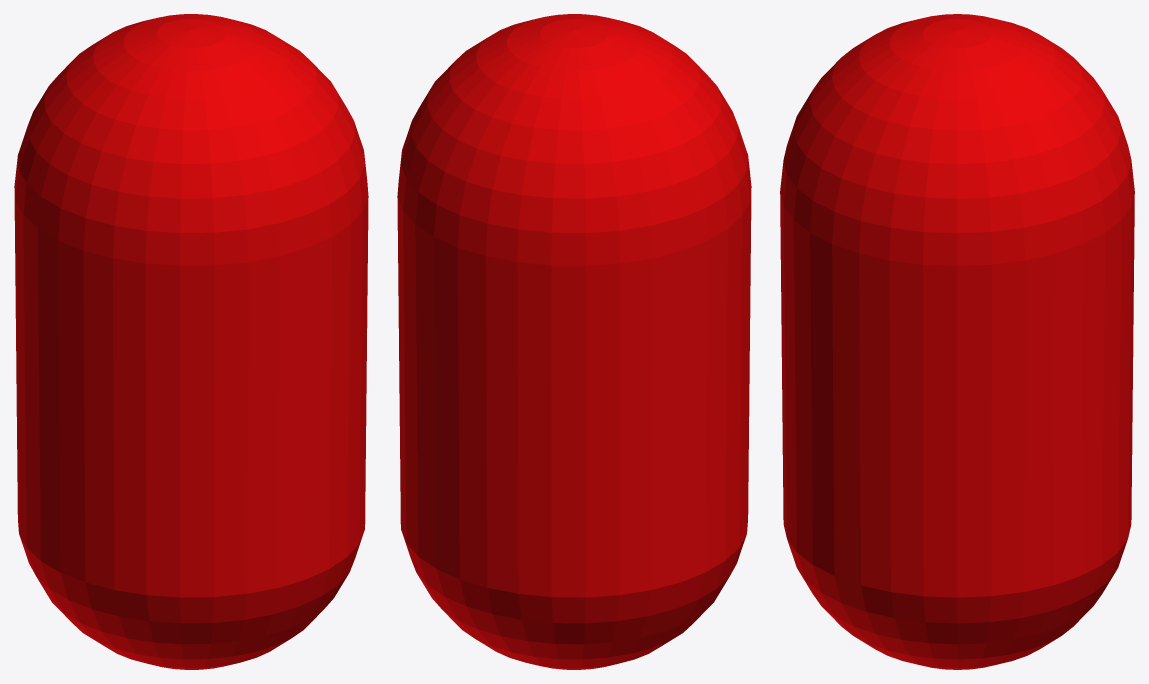
The model's file is Creep0.fbx.
The picture shows the model from 3 angles, left to right: view 1: azimuth 30°, elevation 25°; view 2: azimuth 150°, elevation 25°; view 3: azimuth 270°, elevation 25°; orthographic projection.
Parts seen in each view (by area): view 1: Sphere; view 2: Sphere; view 3: Sphere.
Part boxes in pixels (x1=…): Sphere: x1=14, y1=14, x2=368, y2=669; Sphere: x1=397, y1=14, x2=751, y2=669; Sphere: x1=780, y1=14, x2=1134, y2=669.
Size of the model in its own units: 2.54 by 4.93 by 2.54.
